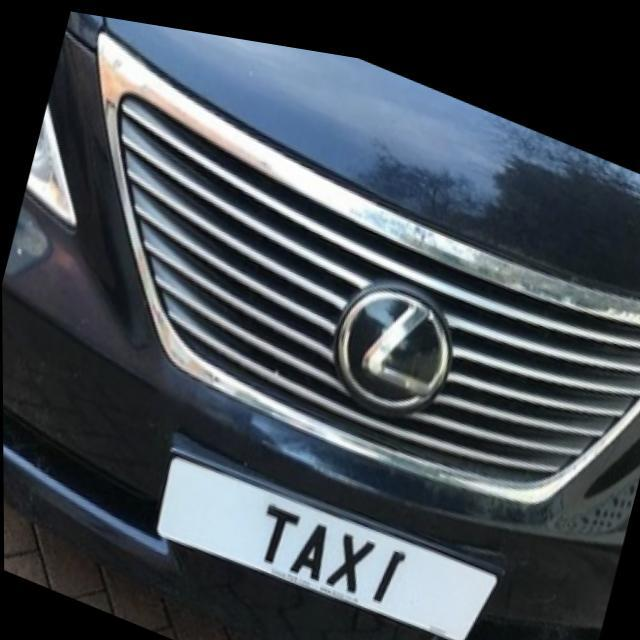license_plate: (148, 430, 486, 629)
